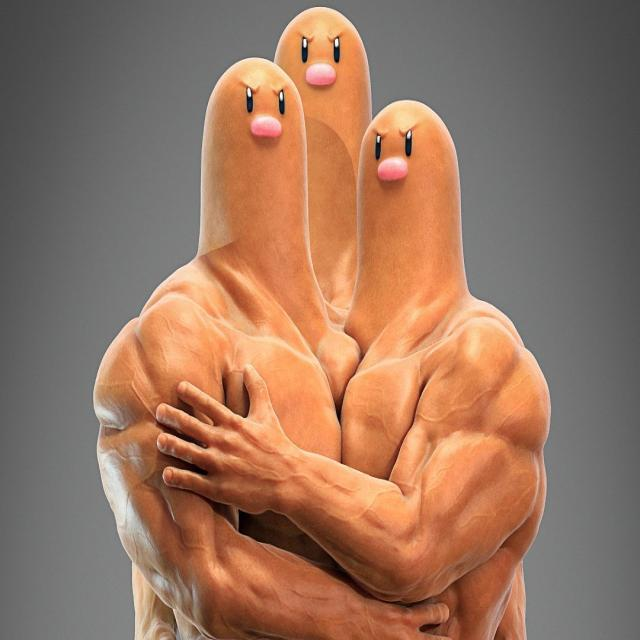Dugtrio: (194, 8, 466, 312)
